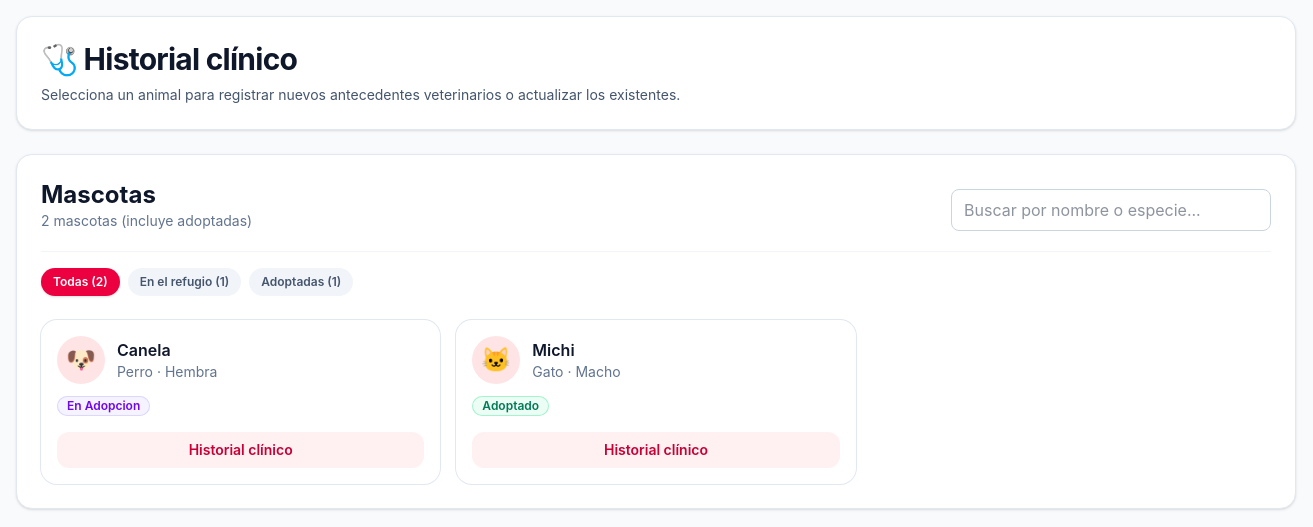
Test: Filtro de mascotas adoptadas (vista del veterinario) › el buscador encuentra por nombre o especie
Expected: the text "Canela" is shown, [117,340,171,360]
Type "gato" into the search field named "Buscar mascota" at (1111, 210), box [951,189,1271,231]
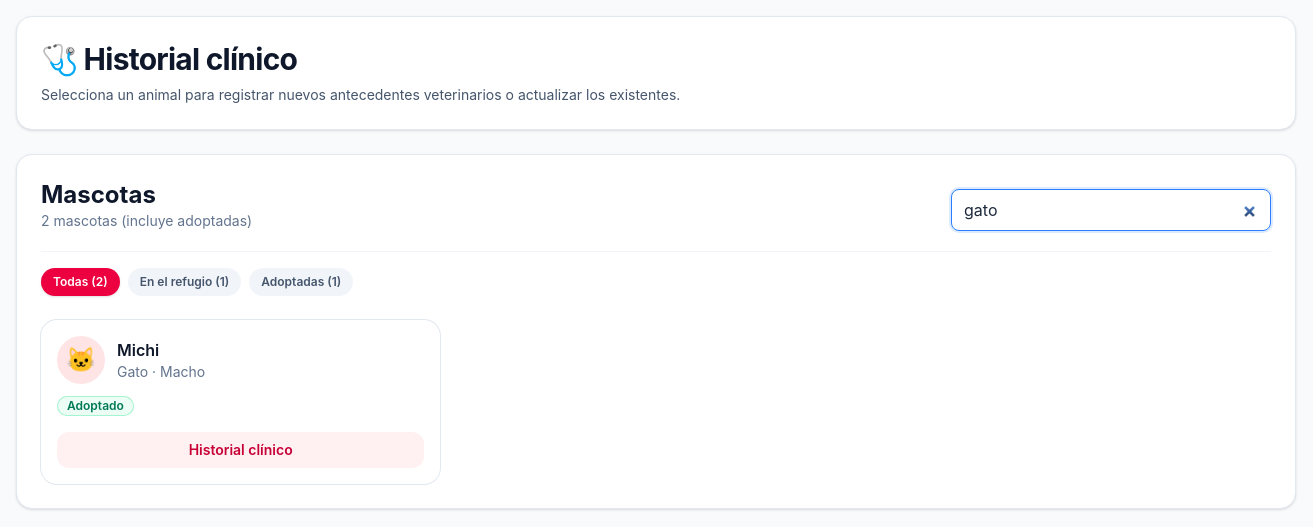
Expected: the text "Michi" is shown, [117,340,159,360]
Expected: the text "Canela" is gone
